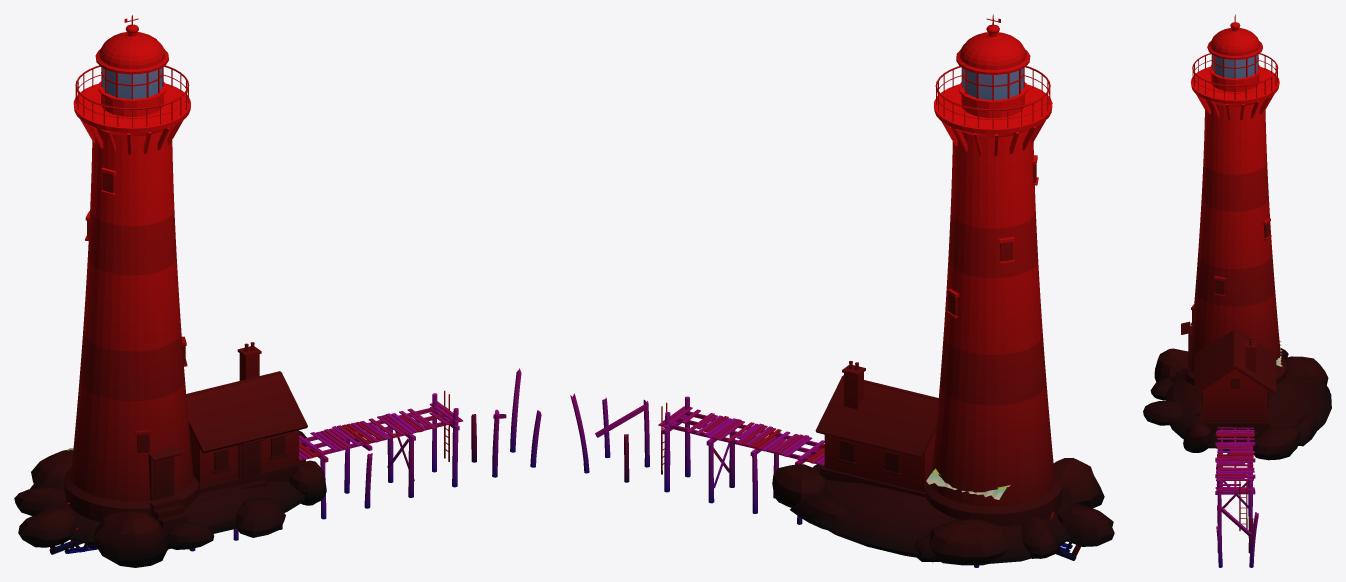
File: props.glb
The picture shows the model from 3 angles, left to right: view 1: azimuth 30°, elevation 25°; view 2: azimuth 150°, elevation 25°; view 3: azimuth 270°, elevation 25°; orthographic projection. The views are drawn at different scales.
Parts seen in each view (by area): view 1: Lighthouse, Jetty; view 2: Lighthouse, Jetty; view 3: Lighthouse, Jetty.
Part boxes in pixels (x1,y1,x2,y2): Lighthouse: (14,15,326,567); Jetty: (189,368,541,551); Lighthouse: (772,14,1114,565); Jetty: (570,393,979,567); Lighthouse: (1143,14,1331,460); Jetty: (1215,427,1258,567).
Size of the model in its own units: 29.29 by 29.21 by 12.23.
